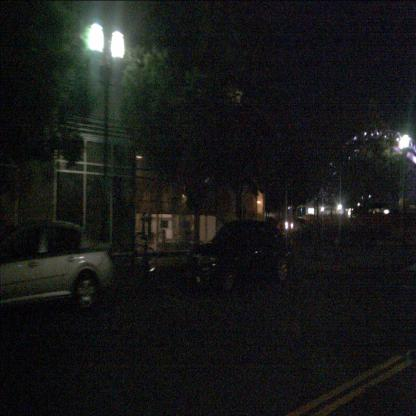human-pedestrian-adult: (0, 210, 12, 276)
vehicle-car: (0, 216, 114, 316), (184, 219, 294, 289)
